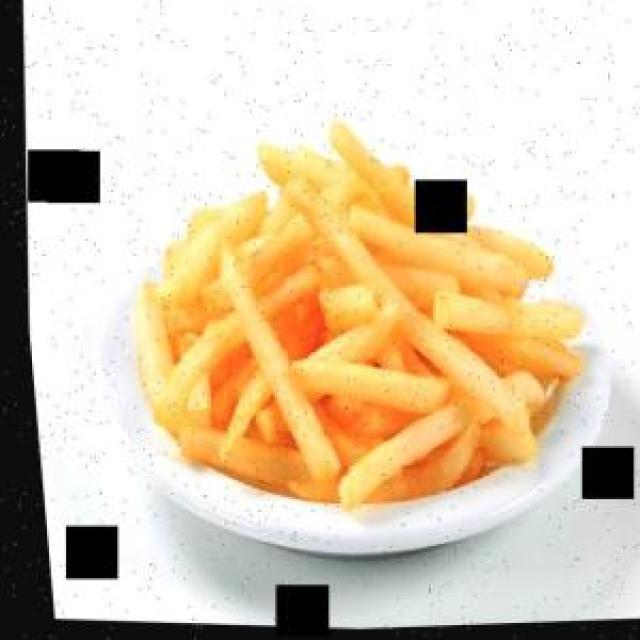French Fries: (98, 96, 608, 536)
